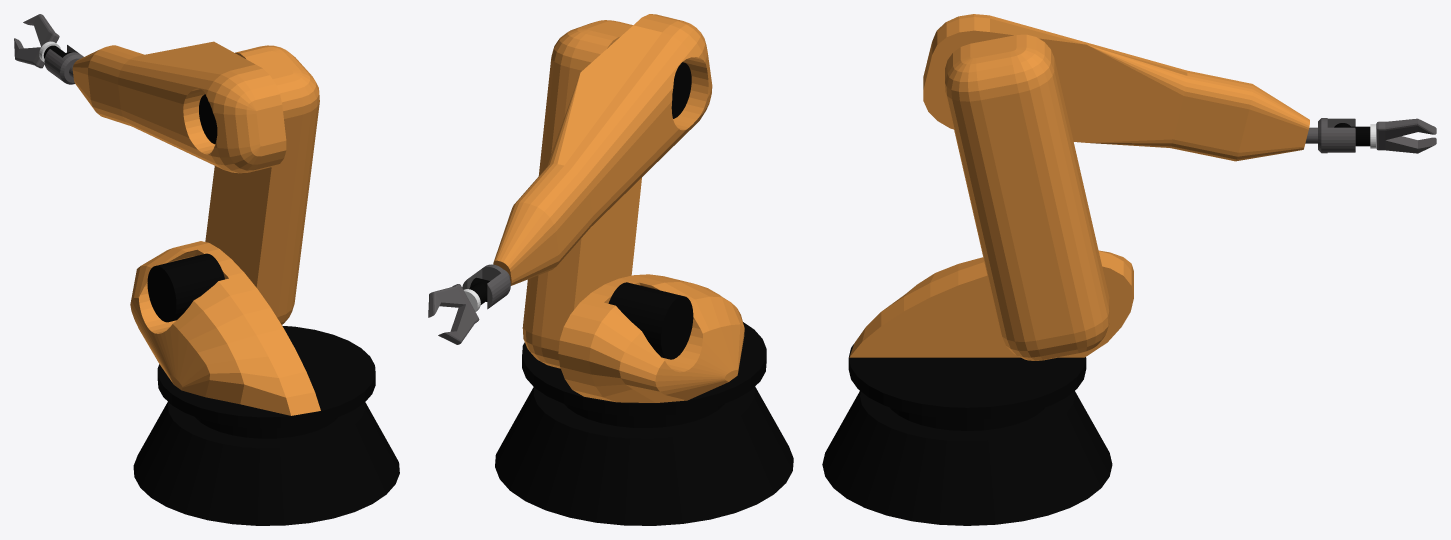
The model's file is Assembly.glb.
The picture shows the model from 3 angles, left to right: view 1: azimuth 30°, elevation 25°; view 2: azimuth 150°, elevation 25°; view 3: azimuth 270°, elevation 25°; orthographic projection. The views are drawn at different scales.
Parts seen in each view (by area): view 1: Base, Cylinder, Fixture, Lower Arm, Engine.Bottom, Head, Engine.Top; view 2: Base, Cylinder, Fixture, Lower Arm, Engine.Bottom, Head, Engine.Top, Left, Right; view 3: Base, Lower Arm, Cylinder, Fixture, Head, Right.
Part boxes in pixels (box(x1,y1,x2,y2)): Base: box(133, 325, 399, 525); Cylinder: box(72, 41, 286, 173); Fixture: box(130, 241, 320, 415); Lower Arm: box(205, 45, 319, 324); Engine.Bottom: box(147, 253, 224, 322); Head: box(44, 45, 83, 84); Engine.Top: box(199, 94, 217, 144); Base: box(495, 322, 793, 525); Cylinder: box(493, 14, 712, 285); Fixture: box(558, 274, 744, 402); Lower Arm: box(522, 20, 641, 368); Engine.Bottom: box(608, 282, 693, 359); Head: box(462, 264, 510, 309); Engine.Top: box(671, 62, 691, 118); Left: box(438, 304, 475, 344); Right: box(428, 286, 465, 317); Base: box(822, 344, 1112, 525); Lower Arm: box(945, 34, 1109, 360); Cylinder: box(923, 14, 1309, 161); Fixture: box(849, 250, 1133, 357); Head: box(1305, 118, 1355, 153); Right: box(1385, 118, 1436, 140).
Size of the model in its own units: 0.794 by 1.31 by 1.68.
